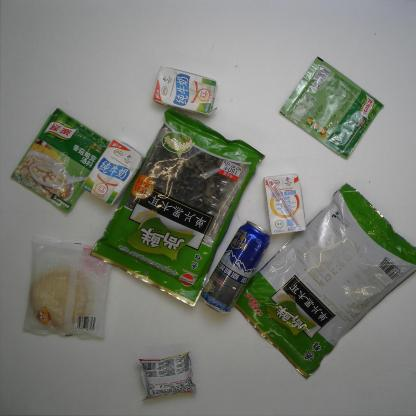Alcohol: (198, 218, 270, 316)
Dessert: (22, 234, 113, 341), (137, 348, 201, 400)
Dried Food: (230, 183, 416, 379), (88, 109, 268, 308)
Milk: (80, 136, 144, 207), (151, 64, 219, 118), (263, 172, 307, 236)
Seasoner: (9, 106, 113, 215), (279, 56, 386, 160)
